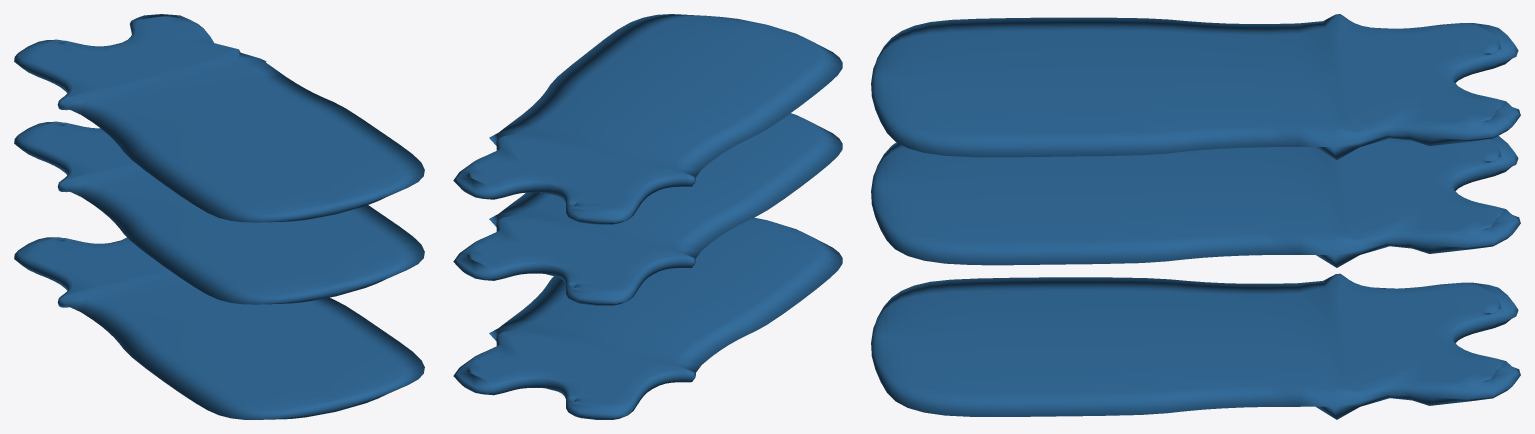
3 renders of one model, left to right at view 1: azimuth 30°, elevation 25°; view 2: azimuth 150°, elevation 25°; view 3: azimuth 270°, elevation 25°, orthographic. The views are drawn at different scales.
Visible parts, largest first — view 1: Circle.001; view 2: Circle.001; view 3: Circle.001.
Boxes of the visible parts, x1,y1,x2,y2 form: Circle.001: (14,14,424,419); Circle.001: (453,14,842,419); Circle.001: (871,14,1520,419).
Bounding box in the file's own units: 37.21 × 34.28 × 73.13.
